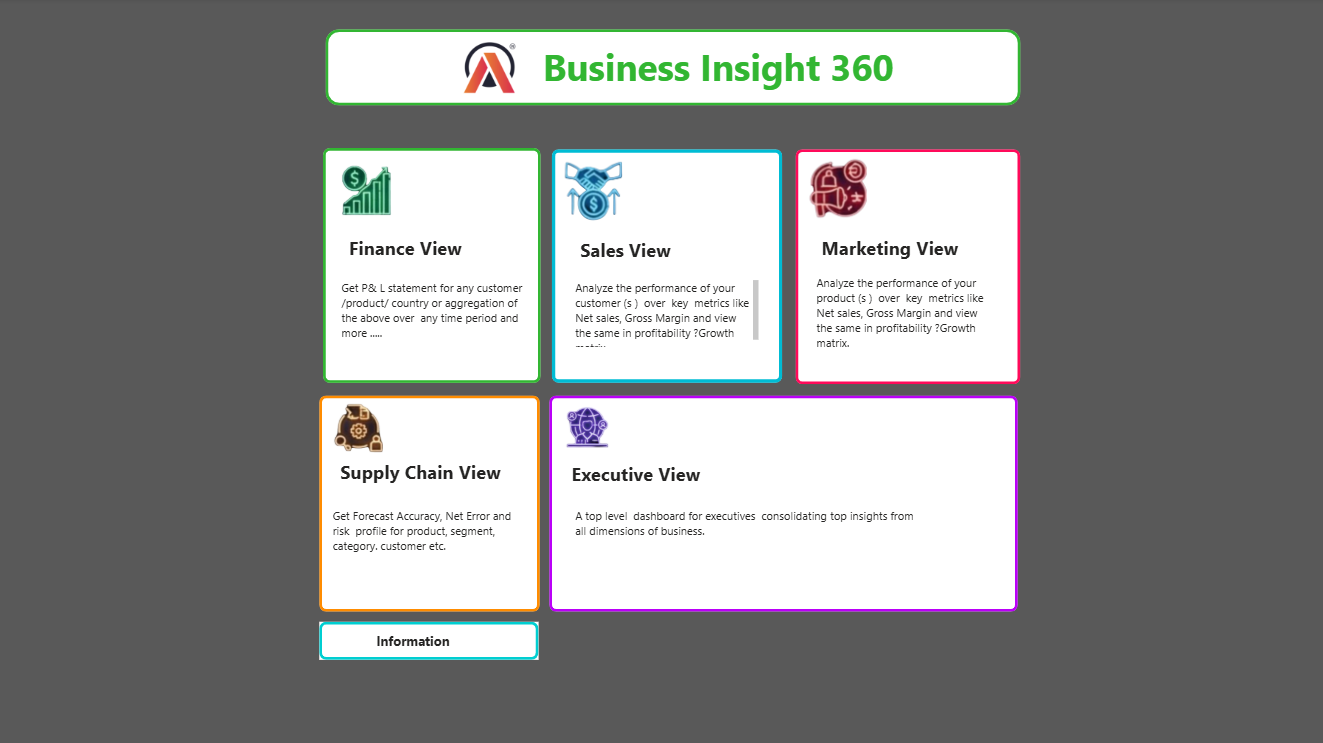

Layout of this report page (visuals, bound fields, positions):
{"tool":"powerbi","page":{"name":"Home","canvas":[1920,1080],"ordinal":0},"visuals":[{"type":"image","box":[618.5,57.2,186.5,84.9],"z":0,"group":"g1"},{"type":"shape","box":[469.8,217,315.1,340.2],"z":0},{"type":"actionButton","box":[464.8,903.5,317.3,55],"z":0,"group":"g2"},{"type":"shape","box":[1154.4,219.1,325.6,340.2],"z":1000},{"type":"textbox","box":[542.8,913.9,160.6,38.8],"z":1000,"group":"g2"},{"type":"shape","box":[801.7,219.1,333.9,338.1],"z":2000},{"type":"shape","box":[474.1,45.2,1006.2,110.4],"z":2500},{"type":"shape","box":[465.7,576,319.3,313],"z":3000},{"type":"shape","box":[797.5,576,678.3,313],"z":4000},{"type":"group","id":"g1","title":"Group 1","box":[618.5,57.2,186.5,84.9],"z":5000},{"type":"textbox","box":[782.8,57.2,577.8,94.2],"z":6000},{"type":"textbox","box":[503.2,338.1,221.2,64.7],"z":7000},{"type":"textbox","box":[837.1,342.3,204.5,64.7],"z":8000},{"type":"textbox","box":[1187.8,338.1,242.1,48],"z":9000},{"type":"textbox","box":[490.7,661.6,269.2,56.3],"z":10000},{"type":"textbox","box":[824.6,665.7,217,50.1],"z":11000},{"type":"textbox","box":[492.8,402.8,273.4,125.2],"z":12000},{"type":"textbox","box":[830.9,402.8,275.5,106.4],"z":13000},{"type":"textbox","box":[1179.4,396.5,263,135.7],"z":14000},{"type":"textbox","box":[480.3,732.5,269.2,127.3],"z":15000},{"type":"textbox","box":[830.9,732.5,515.5,131.5],"z":16000},{"type":"group","id":"g2","title":"pop up close","box":[464.8,903.5,317.3,55],"z":18000},{"type":"image","box":[1166.6,227.4,97.2,104.6],"z":19000},{"type":"image","box":[814.4,220.1,95.4,117.4],"z":20000},{"type":"image","box":[491.6,223.8,82.5,108.2],"z":21000},{"type":"image","box":[480.6,576,80.7,93.5],"z":22000},{"type":"image","box":[805.2,581.5,95.4,80.7],"z":23000}]}

Visuals, with their boxes in screenshot pixels (x1, y1, x2, y2), scaled from the page's 1920x1080 canvas onto the 1323x743 screenshot:
image: bbox(426, 39, 555, 98)
shape: bbox(324, 149, 541, 383)
actionButton: bbox(320, 622, 539, 659)
shape: bbox(795, 151, 1020, 385)
textbox: bbox(374, 629, 485, 655)
shape: bbox(552, 151, 782, 383)
shape: bbox(327, 31, 1020, 107)
shape: bbox(321, 396, 541, 612)
shape: bbox(550, 396, 1017, 612)
"Group 1" group: bbox(426, 39, 555, 98)
textbox: bbox(539, 39, 938, 104)
textbox: bbox(347, 233, 499, 277)
textbox: bbox(577, 235, 718, 280)
textbox: bbox(818, 233, 985, 266)
textbox: bbox(338, 455, 524, 494)
textbox: bbox(568, 458, 718, 492)
textbox: bbox(340, 277, 528, 363)
textbox: bbox(573, 277, 762, 350)
textbox: bbox(813, 273, 994, 366)
textbox: bbox(331, 504, 516, 592)
textbox: bbox(573, 504, 928, 594)
"pop up close" group: bbox(320, 622, 539, 659)
image: bbox(804, 156, 871, 228)
image: bbox(561, 151, 627, 232)
image: bbox(339, 154, 396, 228)
image: bbox(331, 396, 387, 461)
image: bbox(555, 400, 621, 456)
